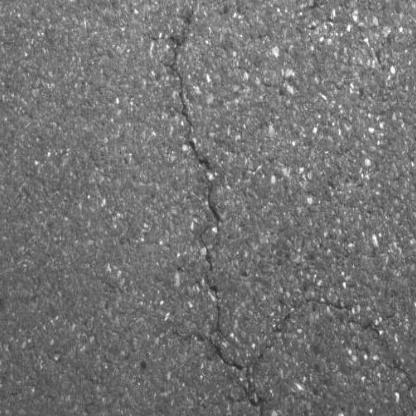Cracks: (160, 11, 249, 376), (238, 382, 270, 416)
